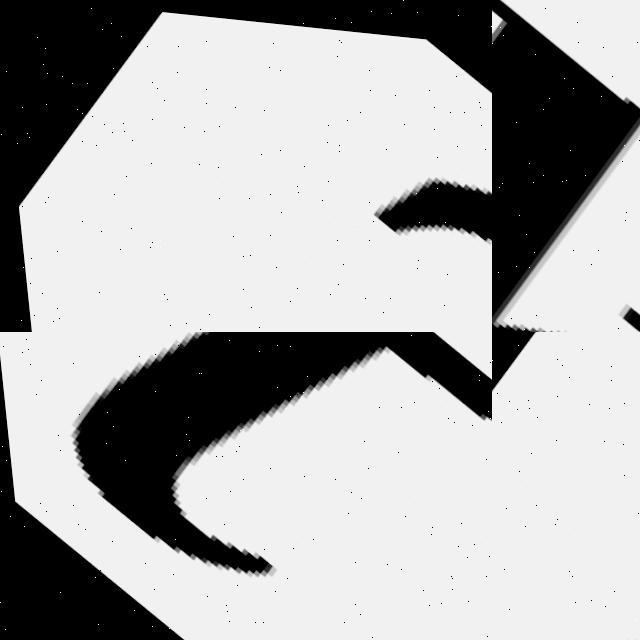2: (18, 6, 492, 332)
7: (492, 332, 640, 640)
K: (492, 0, 640, 332)
T: (0, 332, 492, 640)
